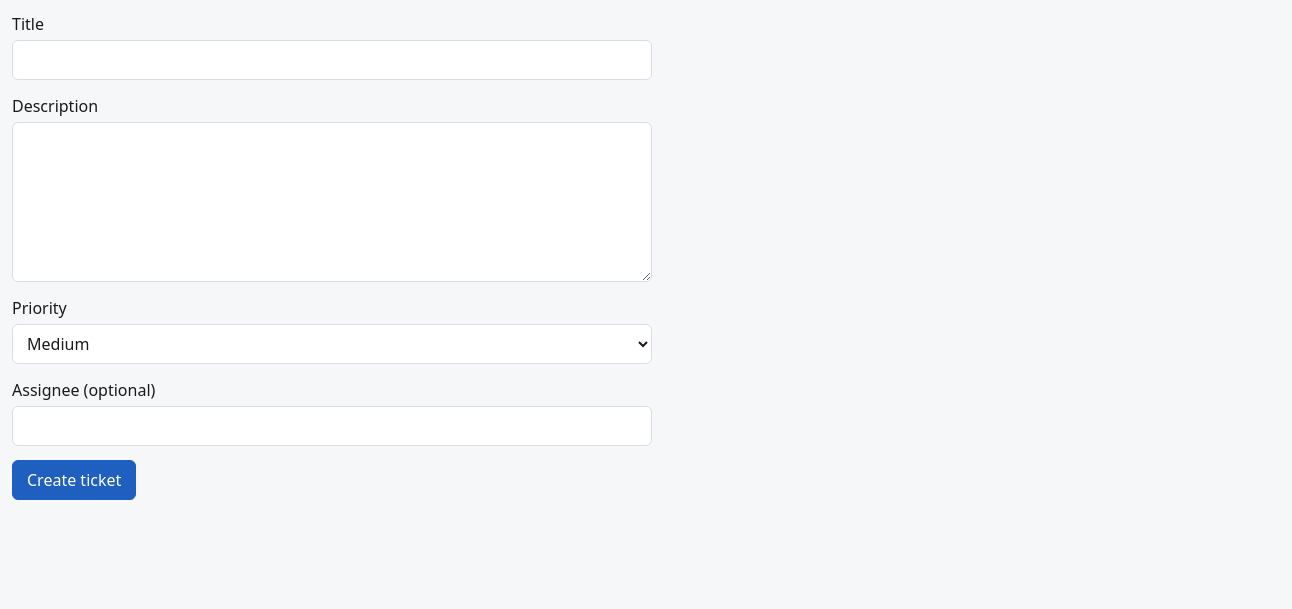
it: CreateTicketForm (REQ-1, TS-FE-02) › shows errors that belong to no field in the form-level alert
In the field labelled "Title": (332, 60) [12, 40, 652, 80], type "t"
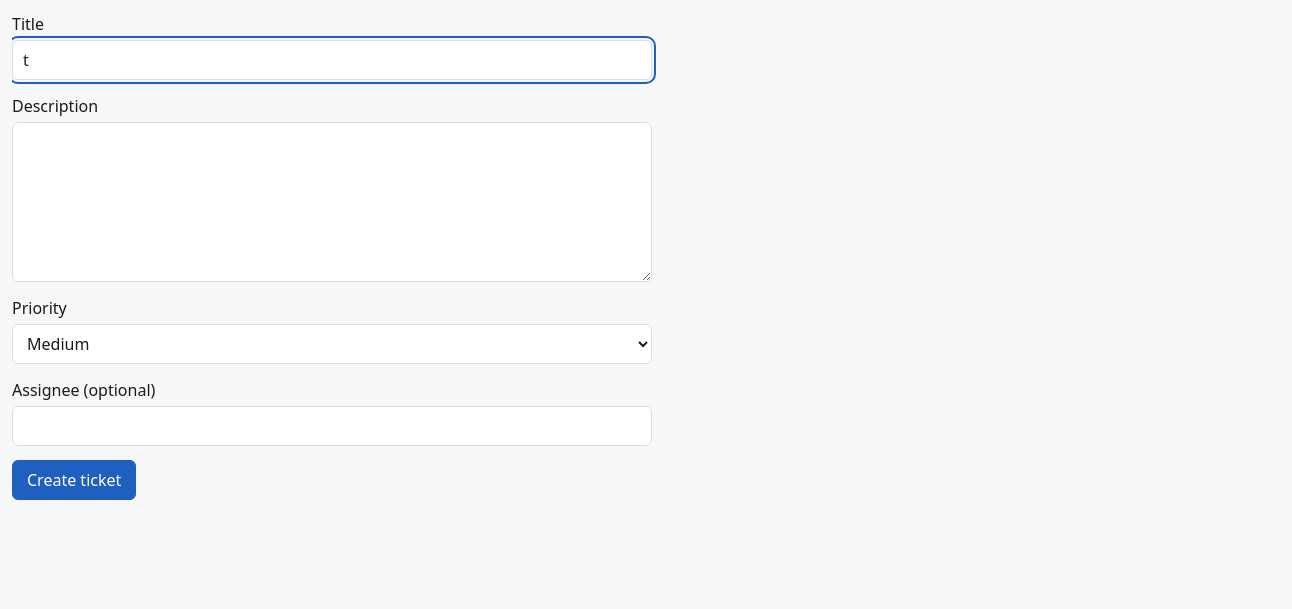
In the text box labelled "Description": (332, 202) [12, 122, 652, 282], type "d"
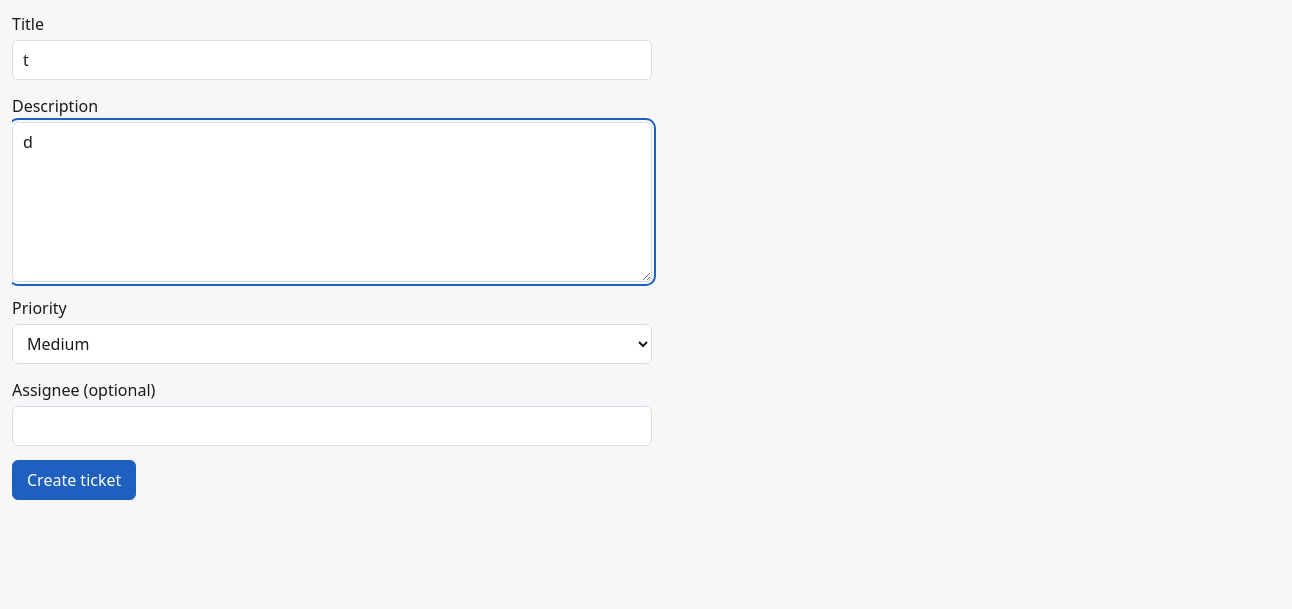
Click the button "Create ticket": (74, 480) [12, 460, 136, 500]
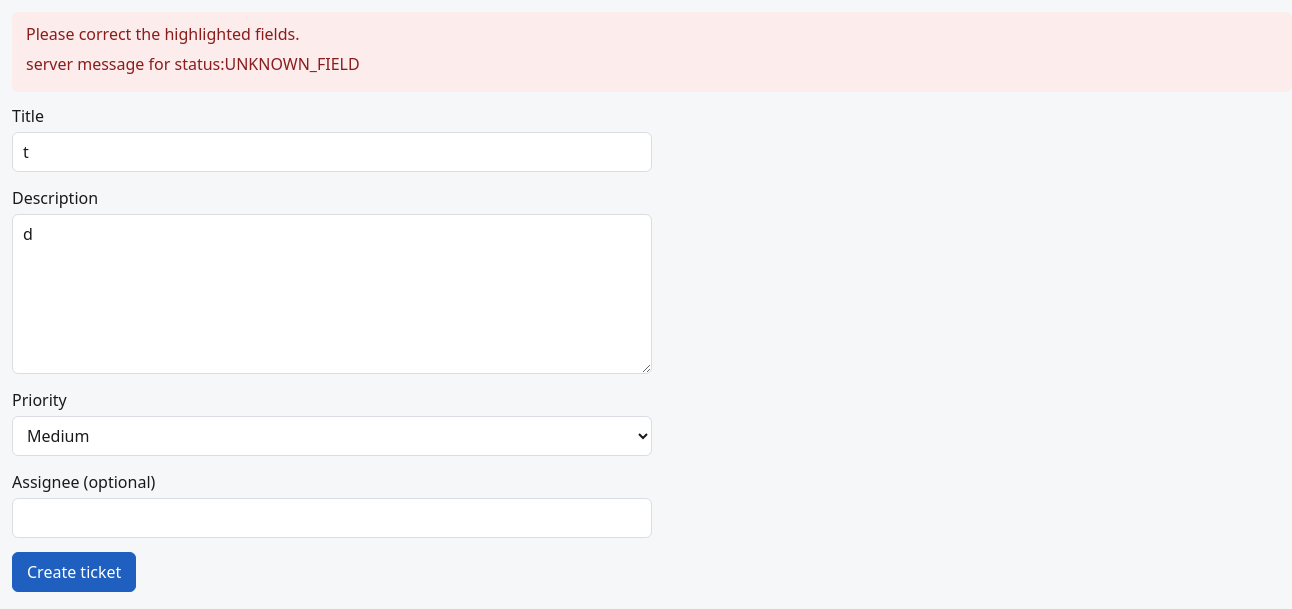
Expected: the message shows "server message for status:UNKNOWN_FIELD", [26, 53, 360, 75]
